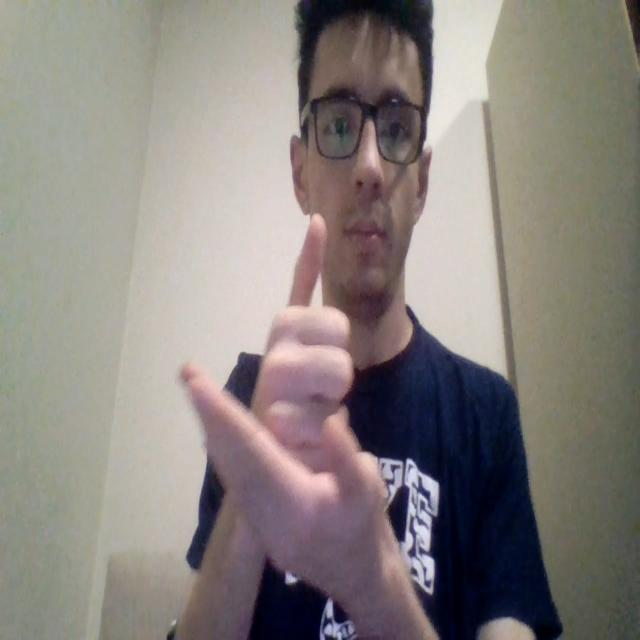help: (174, 210, 392, 588)
